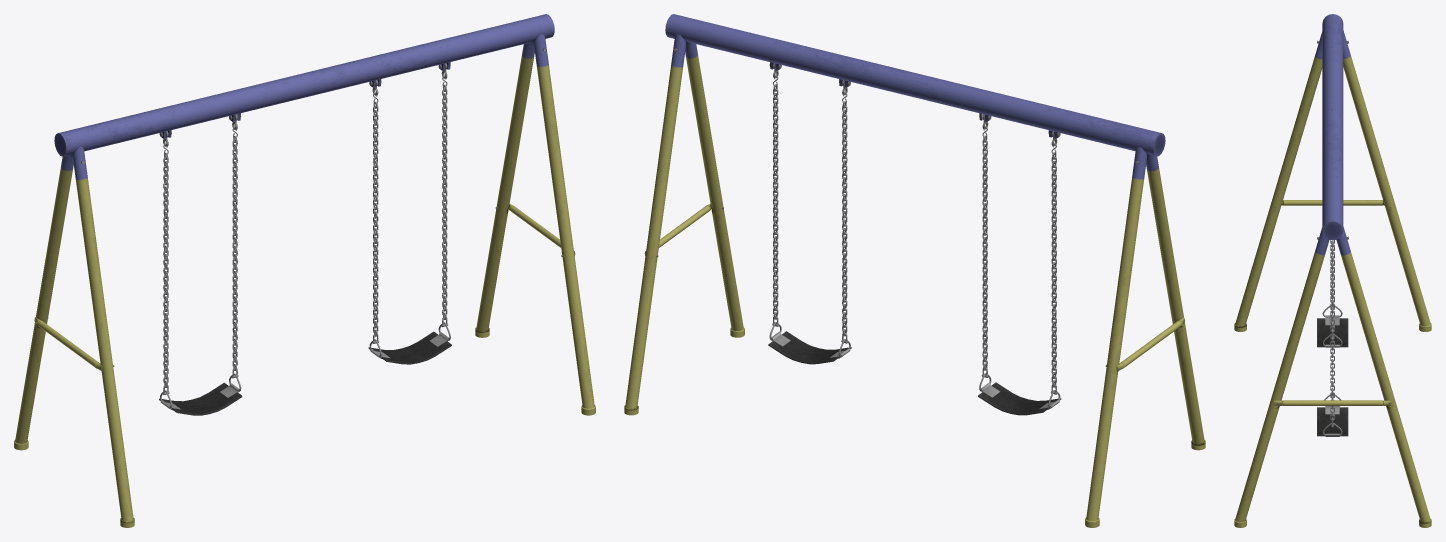
File: Sketchfab_2020_04_14_23_35_39.fbx
The picture shows the model from 3 angles, left to right: view 1: azimuth 30°, elevation 25°; view 2: azimuth 150°, elevation 25°; view 3: azimuth 270°, elevation 25°; orthographic projection. The views are drawn at different scales.
Parts seen in each view (by area): view 1: Frame Top Bar.002; view 2: Frame Top Bar.002; view 3: Frame Top Bar.002.
Part boxes in pixels (x1,y1,x2,y2): Frame Top Bar.002: [14, 14, 595, 527]; Frame Top Bar.002: [624, 14, 1205, 527]; Frame Top Bar.002: [1234, 14, 1431, 527].
Bounding box in the file's own units: 2116 × 1473 × 852.
